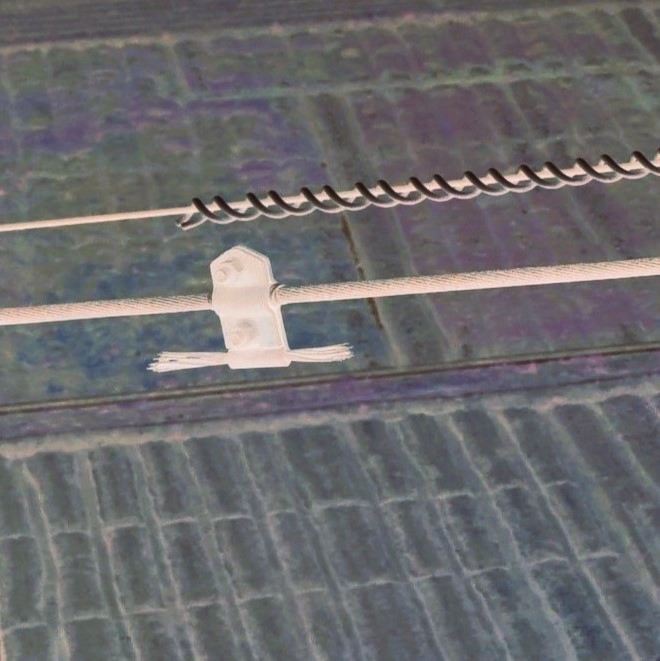Damage of shockproof hammer: (125, 234, 368, 386)
